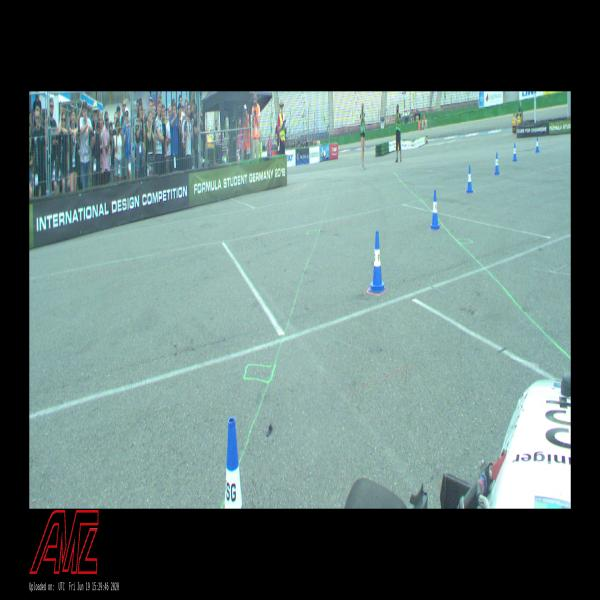blue_cone: (224, 416, 243, 508), (371, 230, 384, 292), (430, 190, 439, 229), (466, 166, 473, 192), (494, 153, 500, 174), (513, 144, 517, 161), (535, 137, 539, 152)
